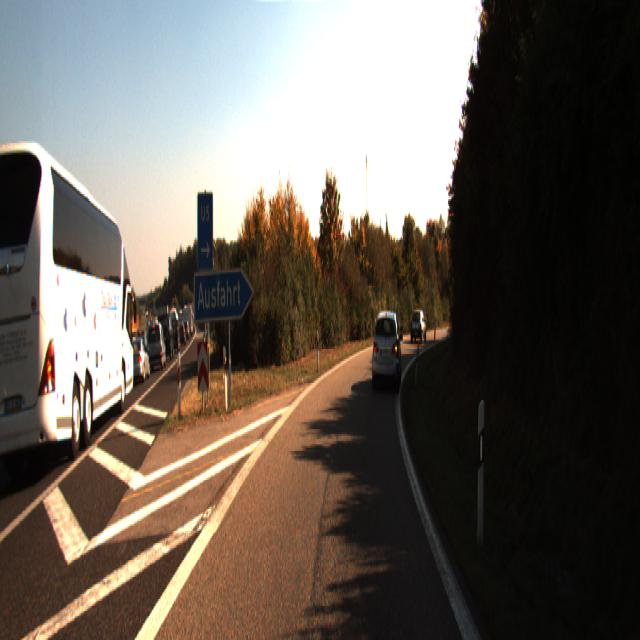Car: (0, 132, 135, 486), (372, 306, 402, 390), (124, 334, 150, 386), (147, 322, 166, 371), (410, 310, 427, 344), (445, 299, 459, 324)
